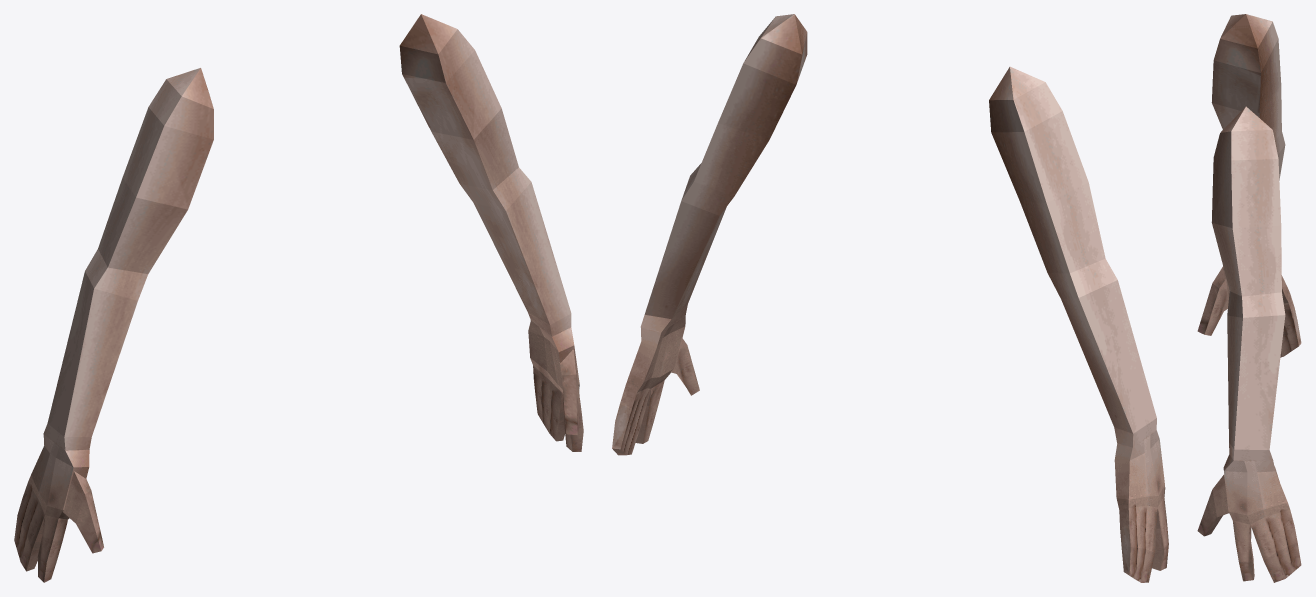
Rendered from FPS_Psx_Hnds.fbx.
3 views of the same model, side by side, from view 1: azimuth 30°, elevation 25°; view 2: azimuth 150°, elevation 25°; view 3: azimuth 270°, elevation 25° (orthographic). The views are drawn at different scales.
Parts seen in each view (by area): view 1: Arm; view 2: Arm; view 3: Arm.
Part boxes in pixels (x1=…): Arm: x1=14, y1=14, x2=583, y2=582; Arm: x1=612, y1=14, x2=1168, y2=582; Arm: x1=1197, y1=14, x2=1301, y2=582.
Size of the model in its own units: 111 by 93.84 by 21.57.
